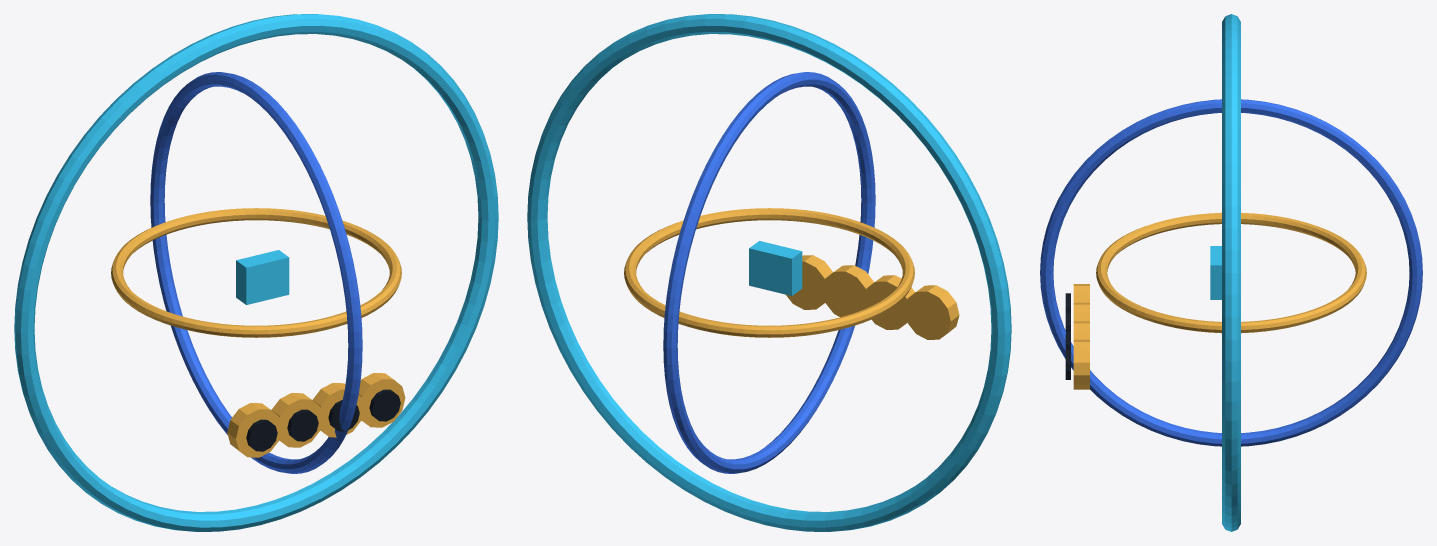
File: 46_L84_EstimatorUncertaintyDisplay.fbx
The picture shows the model from 3 angles, left to right: view 1: azimuth 30°, elevation 25°; view 2: azimuth 150°, elevation 25°; view 3: azimuth 270°, elevation 25°; orthographic projection. The views are drawn at different scales.
Visible parts, largest first — view 1: L84_EstimatorUncertaintyDisplay, L84_EstimatorUncertaintyDisplay_Part_0003, L84_EstimatorUncertaintyDisplay_Part_0004, L84_EstimatorUncertaintyDisplay_Part_0006, L84_EstimatorUncertaintyDisplay_Part_0010, L84_EstimatorUncertaintyDisplay_Part_0008, L84_EstimatorUncertaintyDisplay_Part_0007, L84_EstimatorUncertaintyDisplay_Part_0011, L84_EstimatorUncertaintyDisplay_Part_0005; view 2: L84_EstimatorUncertaintyDisplay, L84_EstimatorUncertaintyDisplay_Part_0003, L84_EstimatorUncertaintyDisplay_Part_0004, L84_EstimatorUncertaintyDisplay_Part_0008, L84_EstimatorUncertaintyDisplay_Part_0010, L84_EstimatorUncertaintyDisplay_Part_0006; view 3: L84_EstimatorUncertaintyDisplay, L84_EstimatorUncertaintyDisplay_Part_0010, L84_EstimatorUncertaintyDisplay_Part_0003.
Boxes of the visible parts, x1=… form: L84_EstimatorUncertaintyDisplay: x1=14, y1=14, x2=498, y2=531; L84_EstimatorUncertaintyDisplay_Part_0003: x1=236, y1=250, x2=289, y2=304; L84_EstimatorUncertaintyDisplay_Part_0004: x1=227, y1=403, x2=282, y2=457; L84_EstimatorUncertaintyDisplay_Part_0006: x1=271, y1=393, x2=323, y2=447; L84_EstimatorUncertaintyDisplay_Part_0010: x1=358, y1=373, x2=405, y2=427; L84_EstimatorUncertaintyDisplay_Part_0008: x1=312, y1=383, x2=364, y2=437; L84_EstimatorUncertaintyDisplay_Part_0007: x1=287, y1=409, x2=318, y2=441; L84_EstimatorUncertaintyDisplay_Part_0011: x1=369, y1=389, x2=400, y2=421; L84_EstimatorUncertaintyDisplay_Part_0005: x1=246, y1=419, x2=277, y2=451; L84_EstimatorUncertaintyDisplay: x1=527, y1=14, x2=1011, y2=531; L84_EstimatorUncertaintyDisplay_Part_0003: x1=749, y1=241, x2=802, y2=295; L84_EstimatorUncertaintyDisplay_Part_0004: x1=904, y1=285, x2=959, y2=339; L84_EstimatorUncertaintyDisplay_Part_0008: x1=822, y1=265, x2=874, y2=317; L84_EstimatorUncertaintyDisplay_Part_0010: x1=786, y1=255, x2=833, y2=309; L84_EstimatorUncertaintyDisplay_Part_0006: x1=864, y1=275, x2=915, y2=329; L84_EstimatorUncertaintyDisplay: x1=1040, y1=14, x2=1422, y2=531; L84_EstimatorUncertaintyDisplay_Part_0010: x1=1073, y1=339, x2=1089, y2=389; L84_EstimatorUncertaintyDisplay_Part_0003: x1=1210, y1=246, x2=1221, y2=299.
Size of the model in its own units: 135 by 135 by 99.8.
